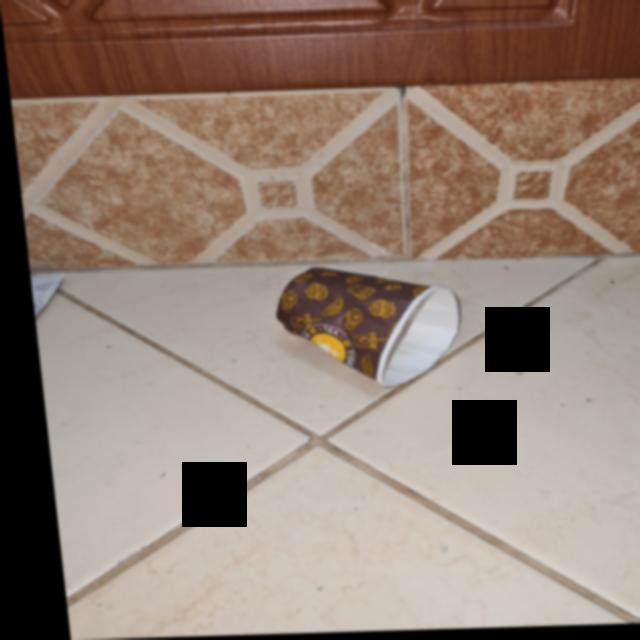cups: (259, 268, 460, 395)
